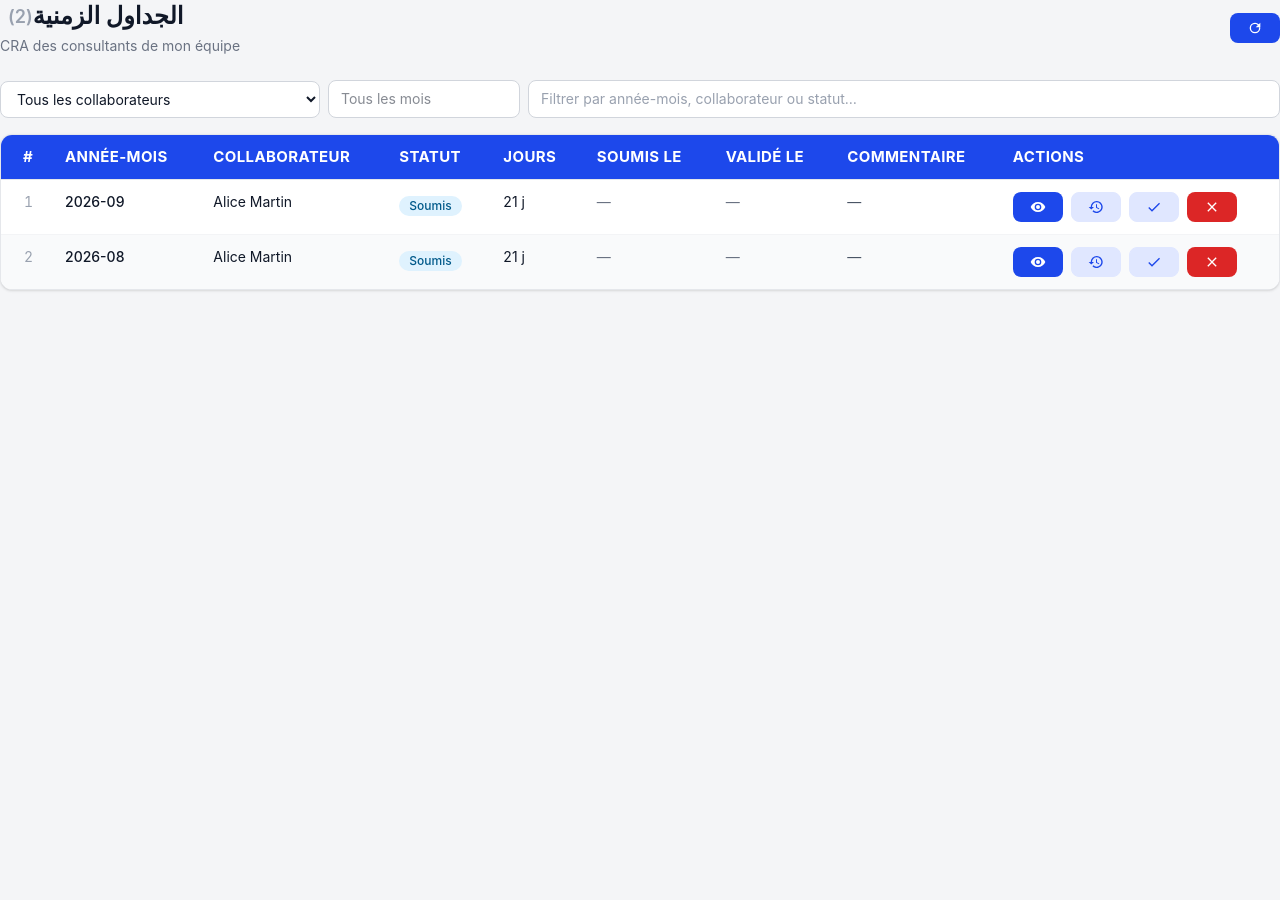
Test: CraList › navigue entre les mois dans la popup sans filtrer ni fermer la liste
Click the row with id "CraList" at (640, 262), box [1, 234, 1279, 289]
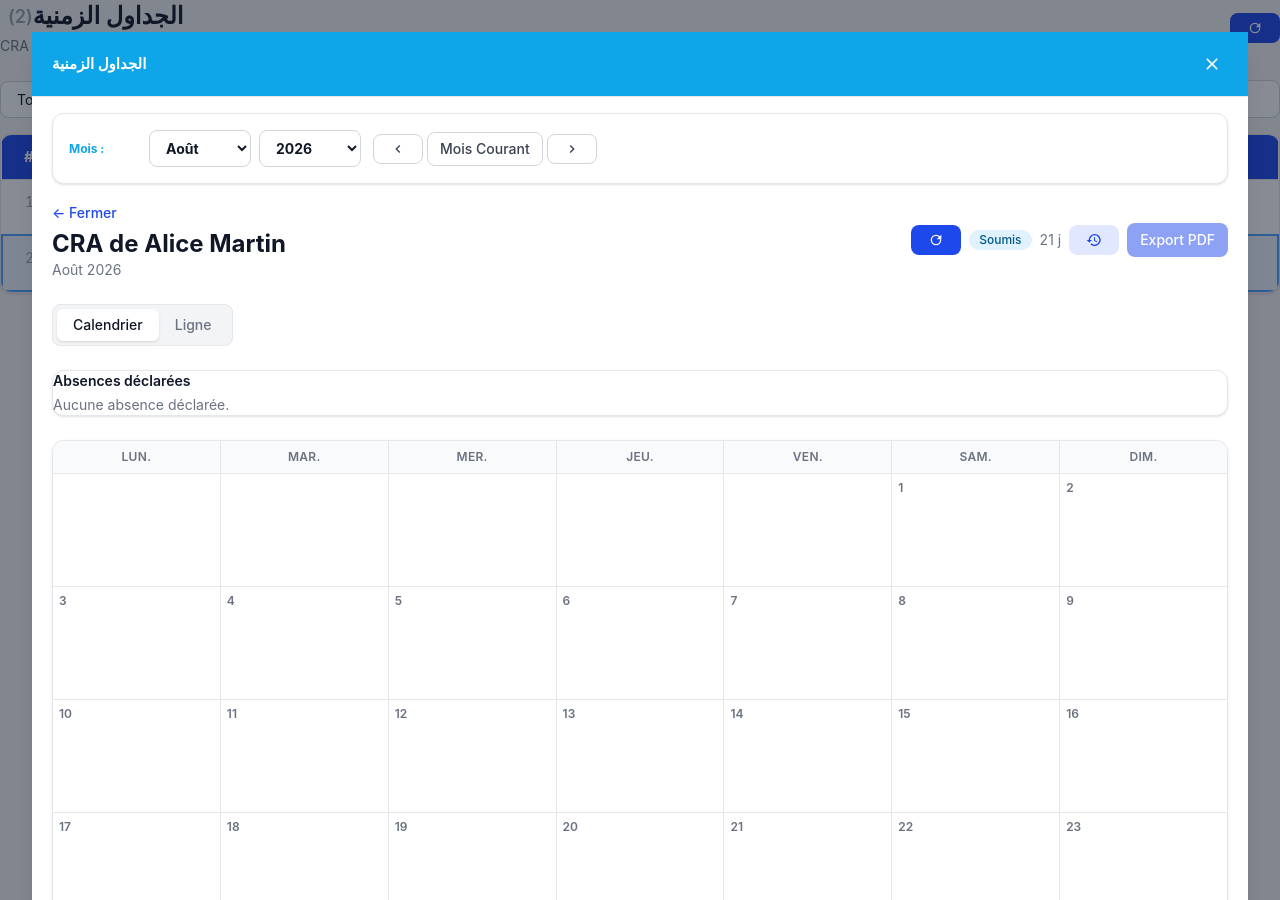
Expected: the dialog is shown
Click the button named "Mois suivant" at (572, 148), box [547, 134, 597, 164]
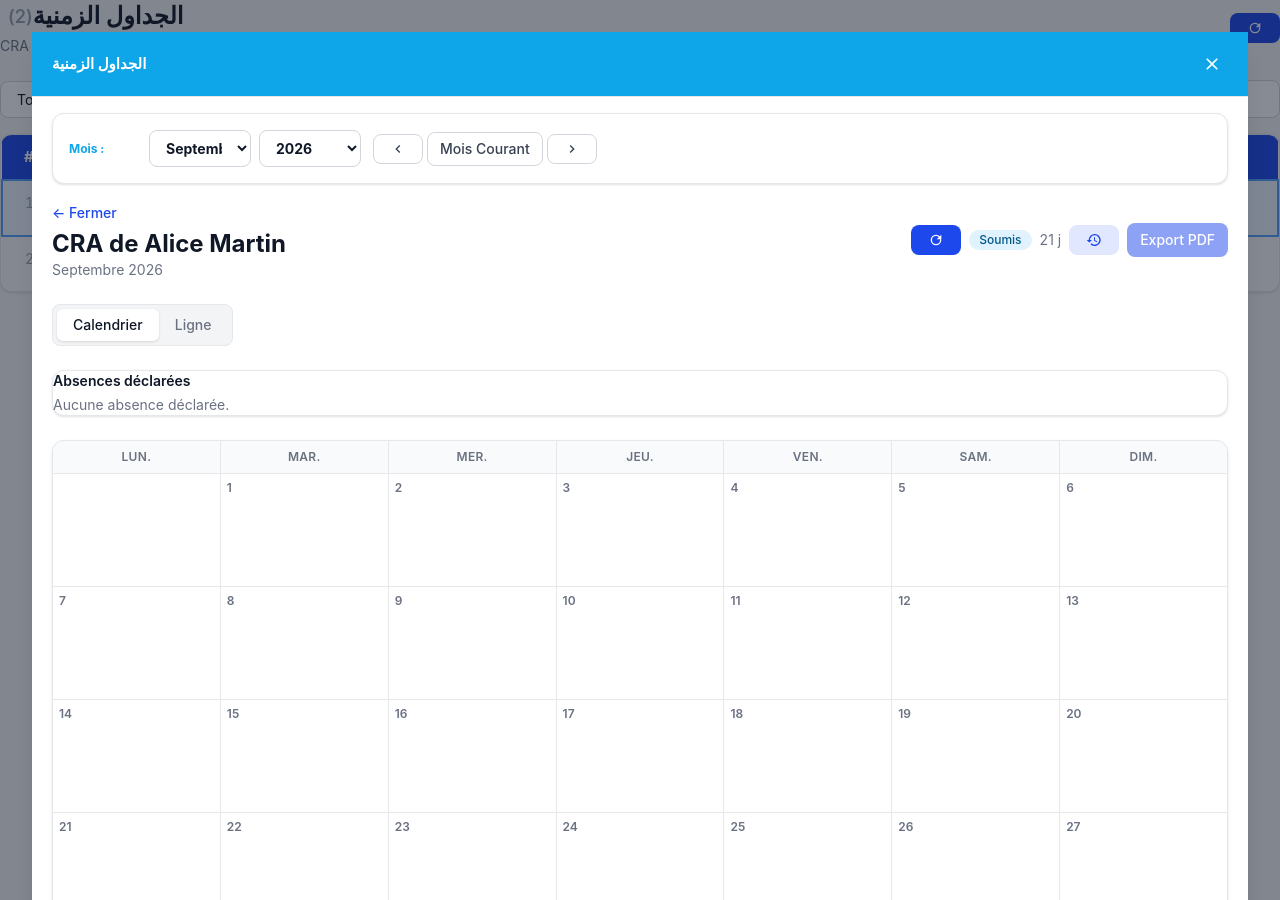
Expected: the dialog is shown
Expected: the dropdown with id "CraList" shows "Septembre", [149, 130, 251, 167]
